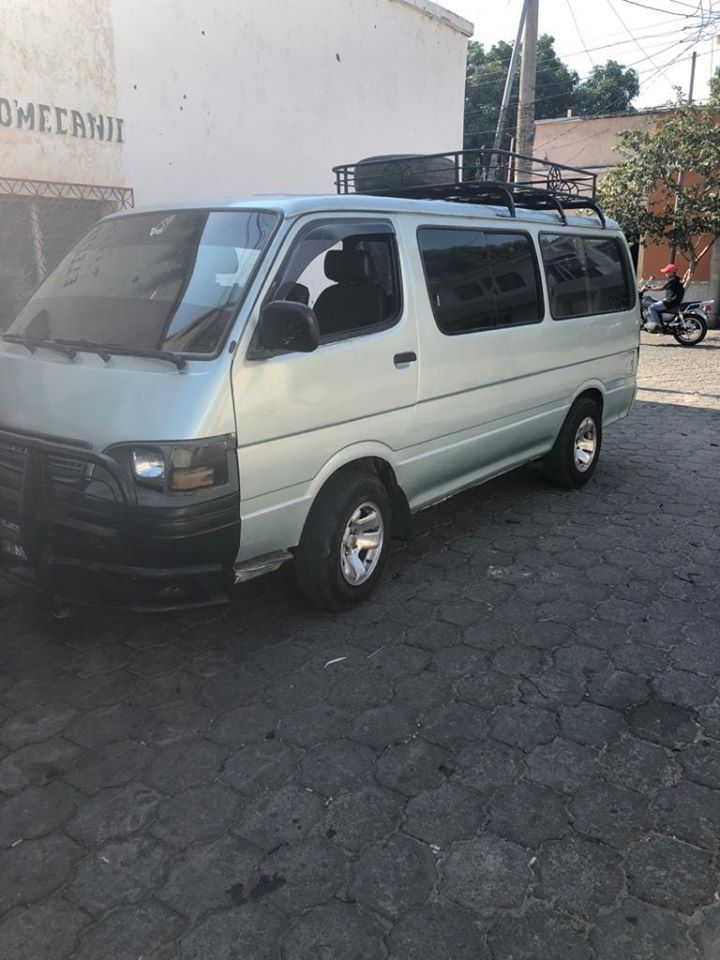bus: (2, 195, 646, 592)
